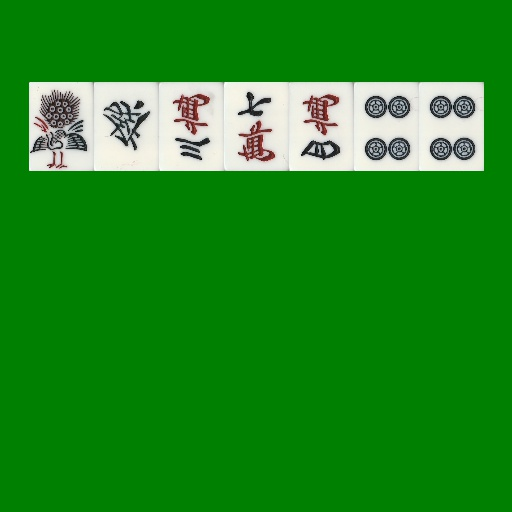1s: (29, 82, 94, 171)
3m: (159, 82, 224, 171)
4m: (289, 82, 354, 171)
4p: (354, 82, 419, 171), (419, 82, 484, 171)
7m: (224, 82, 289, 171)
hatsu: (94, 82, 159, 171)
